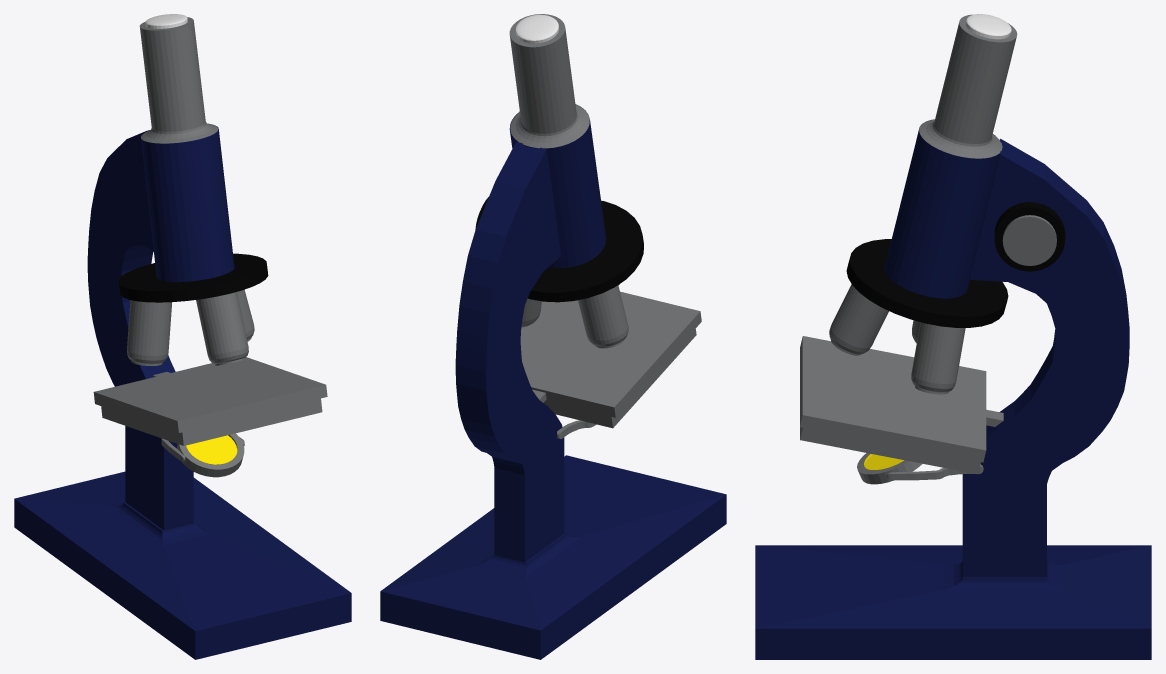
The model's file is mikroskop-pionek.glb.
3 views of the same model, side by side, from view 1: azimuth 30°, elevation 25°; view 2: azimuth 150°, elevation 25°; view 3: azimuth 270°, elevation 25° (orthographic). The views are drawn at different scales.
Parts seen in each view (by area): view 1: Cube.006, Cube.002, Cylinder, Cube, Cylinder.002, Cylinder.001, Cube.003, Cylinder.004, Cylinder.005, Cylinder.008, Cylinder.007, Cylinder.003; view 2: Cube.006, Cube.002, Cube, Cylinder.002, Cylinder, Cylinder.001, Cylinder.005, Cube.003, Cylinder.003; view 3: Cube.006, Cube.002, Cube, Cylinder, Cylinder.002, Cylinder.001, Cylinder.006, Cylinder.004, Cube.003, Cylinder.010, Cylinder.009, Cylinder.003 (+2 smaller).
Part boxes in pixels (x1,y1,x2,y2): Cube.006: (14,471,351,659); Cube.002: (87,130,193,530); Cylinder: (140,123,234,282); Cube: (93,357,327,432); Cylinder.002: (139,17,218,143); Cylinder.001: (118,253,268,302); Cube.003: (101,398,322,445); Cylinder.004: (196,292,248,365); Cylinder.005: (127,300,172,365); Cylinder.008: (186,435,237,464); Cylinder.007: (177,433,244,477); Cylinder.003: (145,14,187,28); Cube.006: (380,455,726,659); Cube.002: (455,142,564,562); Cube: (520,291,701,417); Cylinder.002: (509,14,589,148); Cylinder: (509,106,605,268); Cylinder.001: (528,200,643,302); Cylinder.005: (578,285,628,348); Cube.003: (544,329,696,428); Cylinder.003: (515,14,558,43); Cube.006: (755,545,1151,659); Cube.002: (962,138,1129,577); Cube: (800,336,986,462); Cylinder: (884,123,1002,298); Cylinder.002: (919,14,1017,158); Cylinder.001: (846,239,1008,327); Cylinder.006: (911,322,965,394); Cylinder.004: (829,284,888,355); Cube.003: (800,427,980,474); Cylinder.010: (1002,215,1056,265); Cylinder.009: (994,202,1065,271); Cylinder.003: (965,14,1011,39).
Size of the model in its own units: 0.9267 by 3.1 by 1.86.
